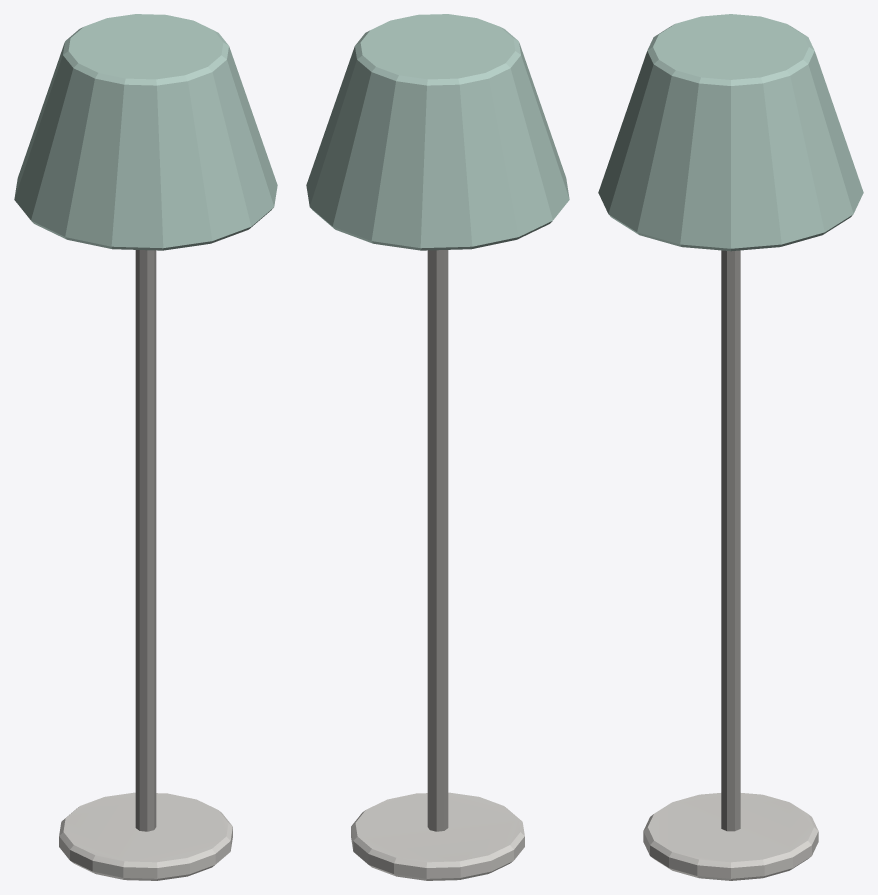
File: furn_floor_lamp__mint.glb
The picture shows the model from 3 angles, left to right: view 1: azimuth 30°, elevation 25°; view 2: azimuth 150°, elevation 25°; view 3: azimuth 270°, elevation 25°; orthographic projection.
Bounding box in the file's own units: 0.515 × 1.71 × 0.515.
